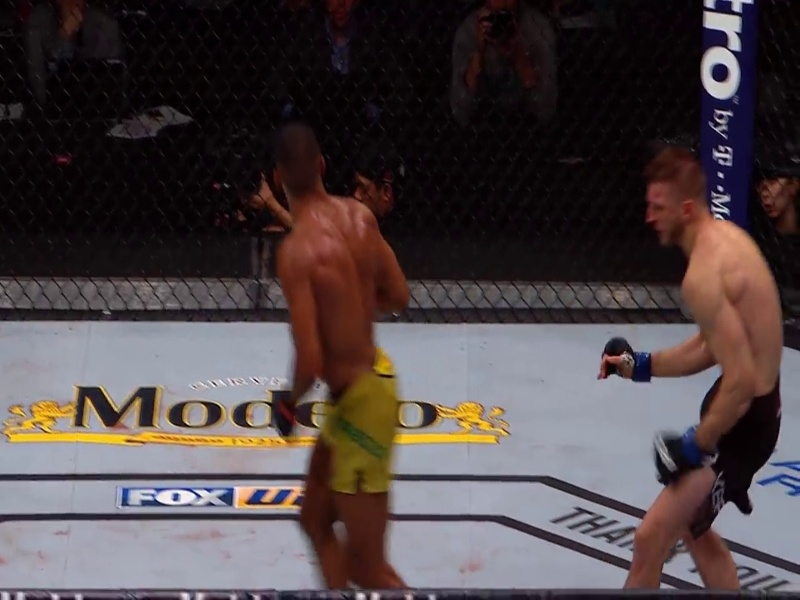fighter: (235, 114, 477, 590), (564, 149, 791, 599)
